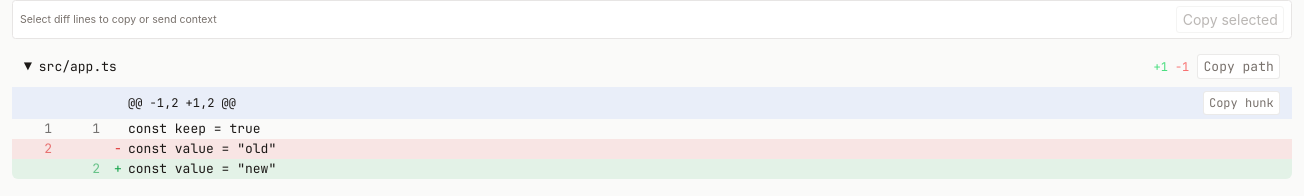
Test: DiffViewer actions › supports shift-click and drag range selection
Press the mouse on the button with test id "diff-line-row" showing "1 1 const keep = true" at (194, 128), box [12,118,1292,138]
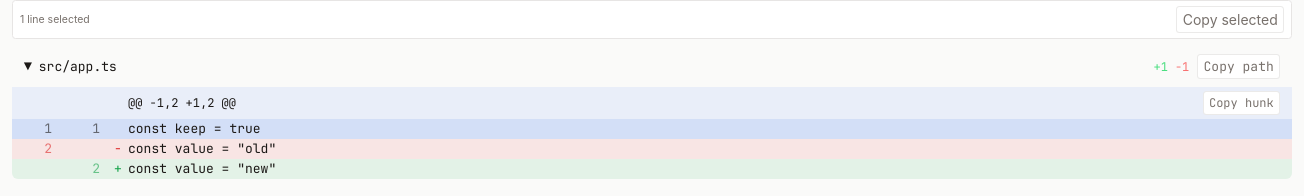
Press the mouse on the button with test id "diff-line-row" showing "2 + const value = \"new\"" at (202, 168), box [12,158,1292,178]
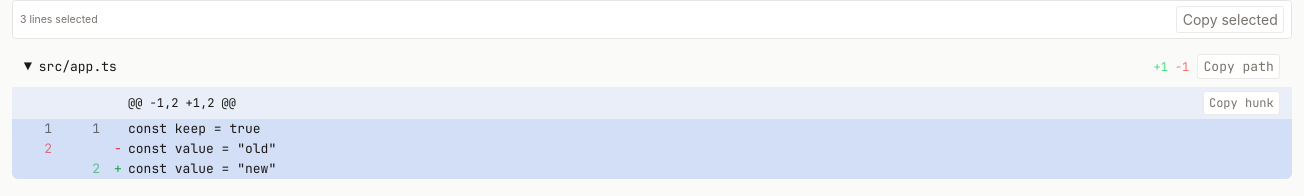
Now the text "3 lines selected" is shown, box [20,12,98,26]
Press the mouse on the button with test id "diff-line-row" showing "1 1 const keep = true" at (194, 128), box [12,118,1292,138]
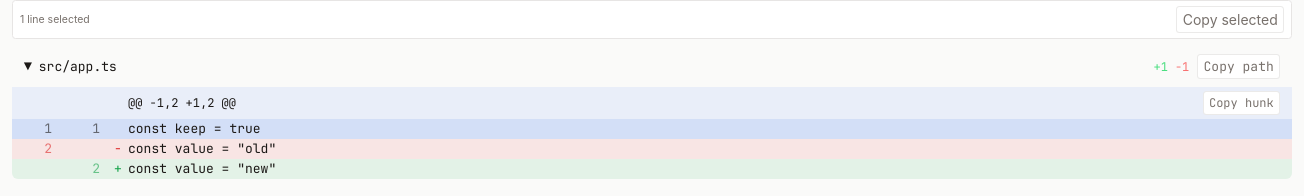
Hover over the button with test id "diff-line-row" showing "2 - const value = \"old\"" at (202, 148), box [12,138,1292,158]
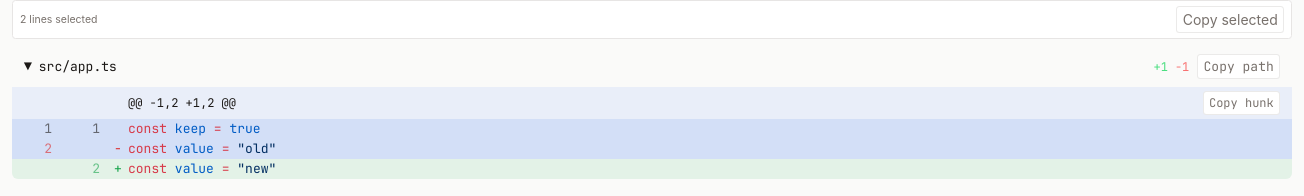
Now the text "2 lines selected" is shown, box [20,12,98,26]
